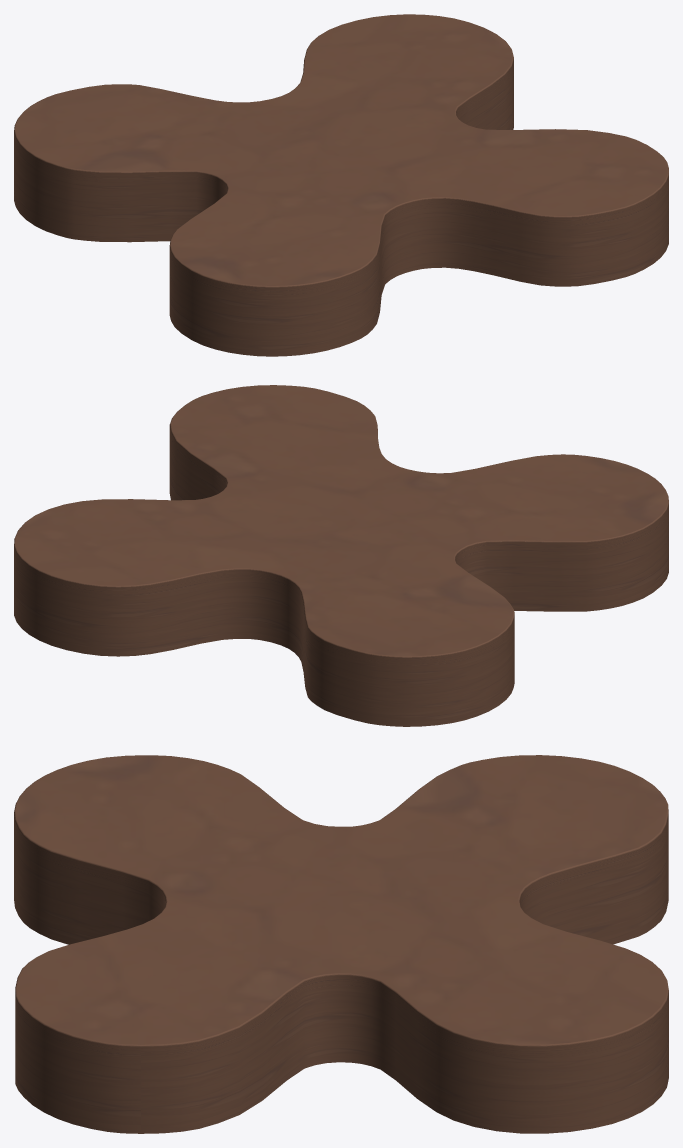
File: blob4small-island.glb
The picture shows the model from 3 angles, top to bottom: view 1: azimuth 30°, elevation 25°; view 2: azimuth 150°, elevation 25°; view 3: azimuth 270°, elevation 25°; orthographic projection. The views are drawn at different scales.
Visible parts, largest first — view 1: geometry_0; view 2: geometry_0; view 3: geometry_0.
Boxes of the visible parts, x1,y1,x2,y2 form: geometry_0: [14, 14, 668, 356]; geometry_0: [14, 385, 668, 726]; geometry_0: [14, 755, 668, 1133].
Bounding box in the file's own units: 42.27 × 6 × 40.23.
1 material, 1 textured.
